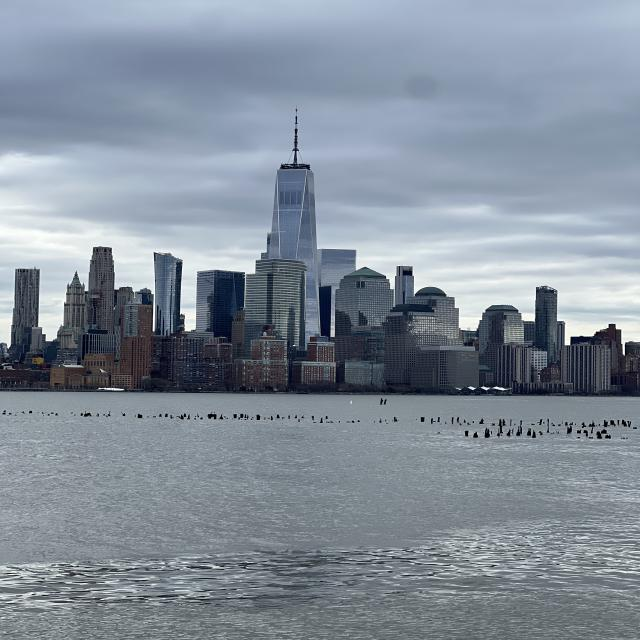WTC: (266, 107, 317, 258)
